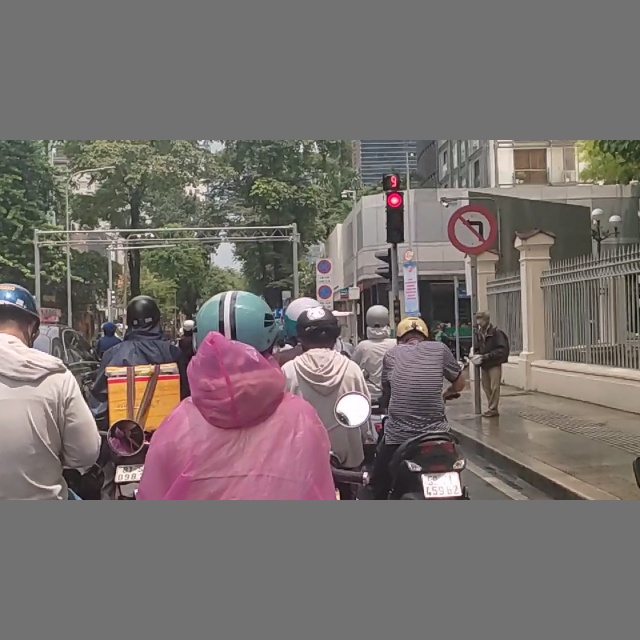P.123a: (447, 201, 497, 256)
P.130: (316, 259, 331, 275)
P.131a: (317, 283, 333, 300)
